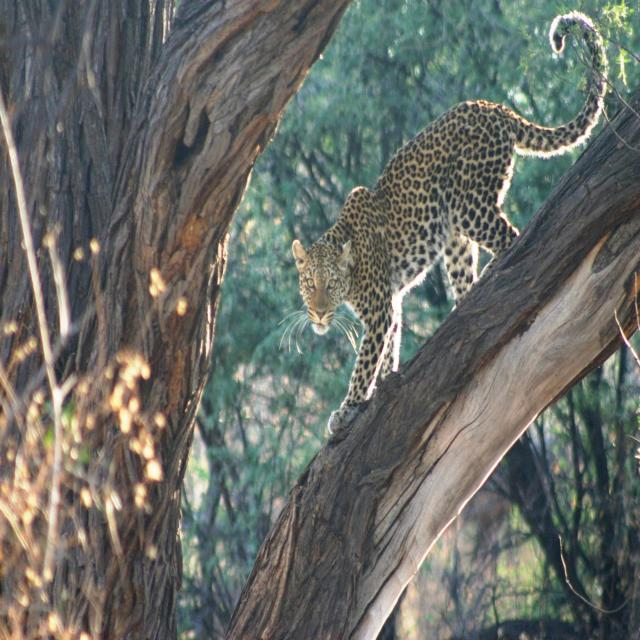Leopard: (276, 38, 626, 455)
